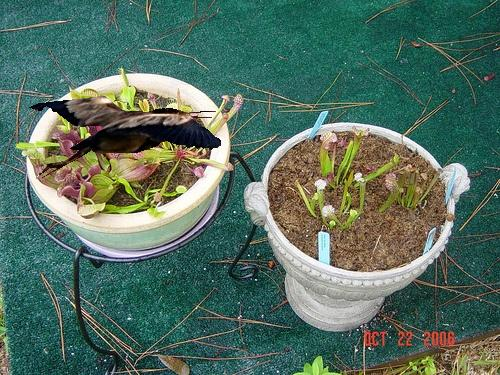tampered: (30, 97, 221, 180)
